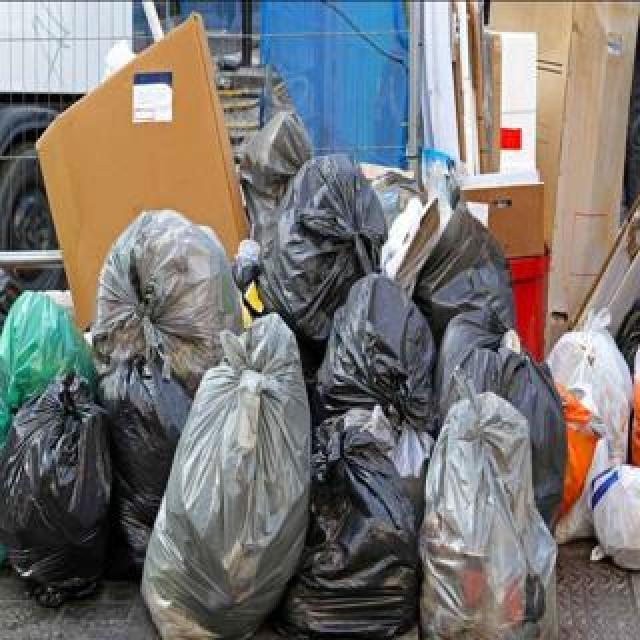Trashbag: (284, 400, 435, 640), (4, 383, 112, 610), (89, 207, 239, 350), (103, 357, 197, 556), (244, 165, 382, 299), (444, 316, 568, 433), (310, 292, 439, 398), (412, 215, 515, 326)
